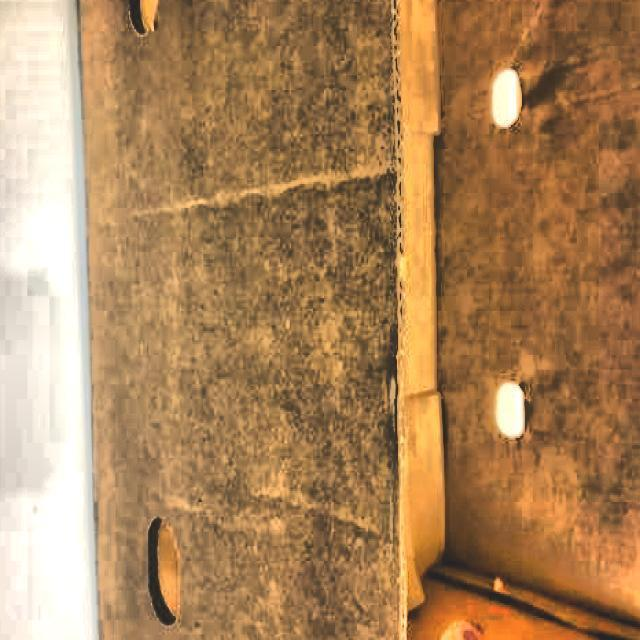cardboard: (72, 0, 420, 640)
